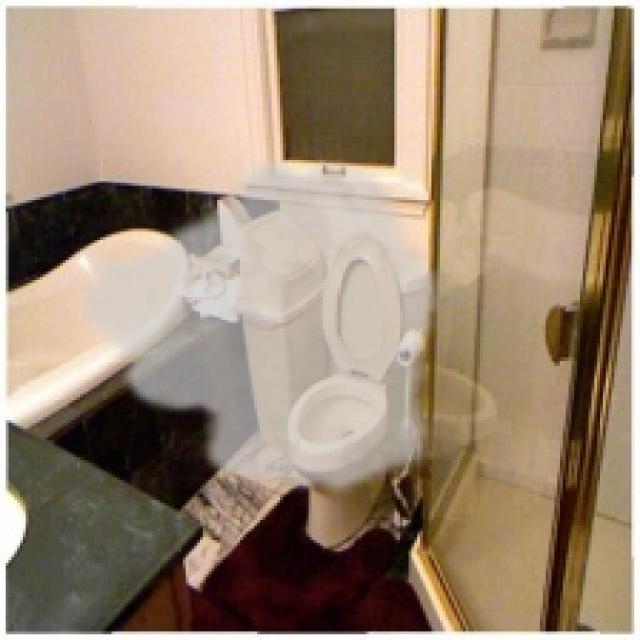Smoke: (68, 148, 446, 498)
